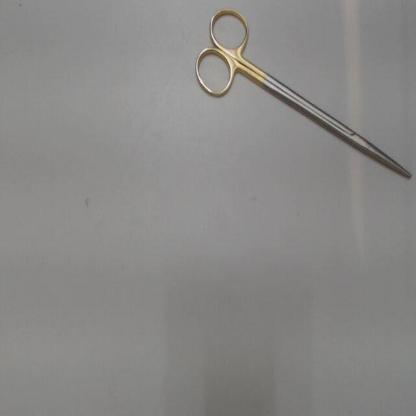7 Metzenbaum Scissors: (190, 4, 414, 182)
